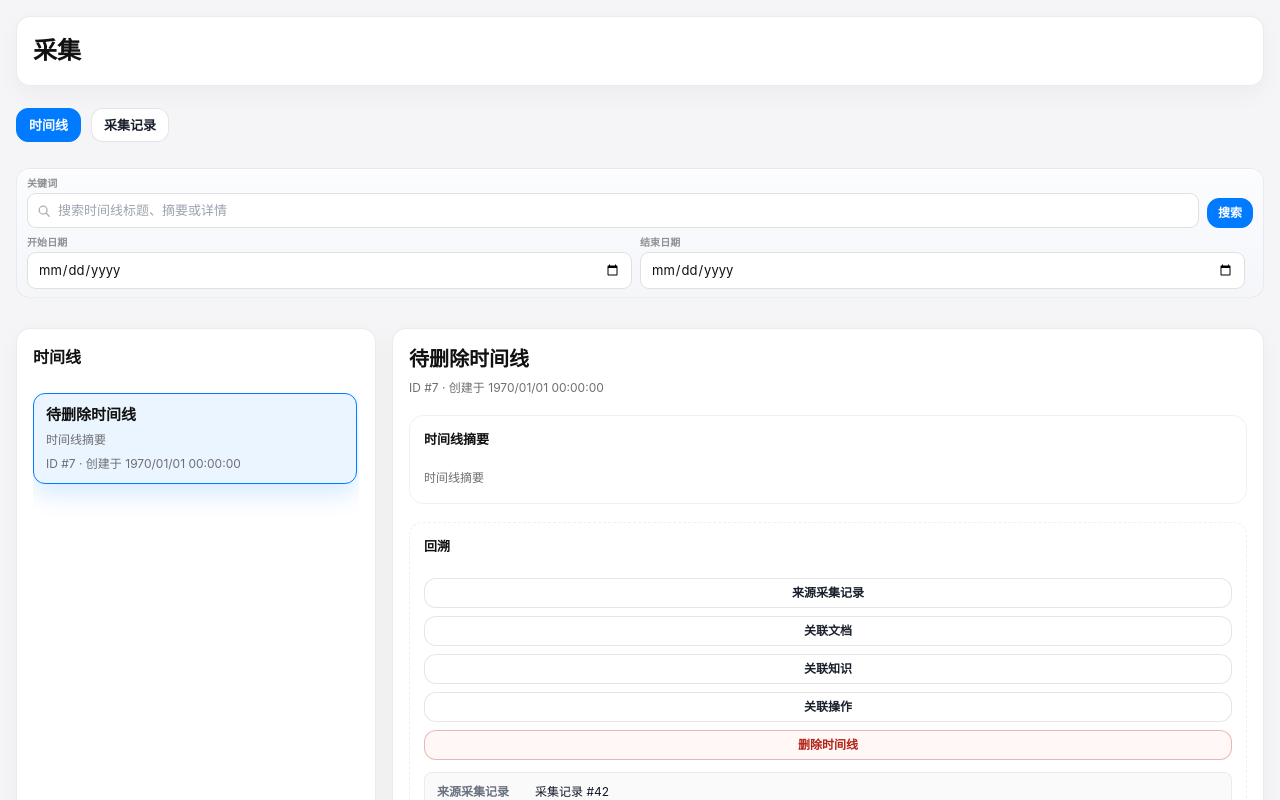
采集与时间线删除 › 确认后删除时间线并刷新当前列表
This screenshot has width=1280, height=800.
Expected: the 2nd text "待删除时间线" is shown, [46,405,136,424]
Click the button "删除时间线" at (828, 745), box [424,730,1232,760]
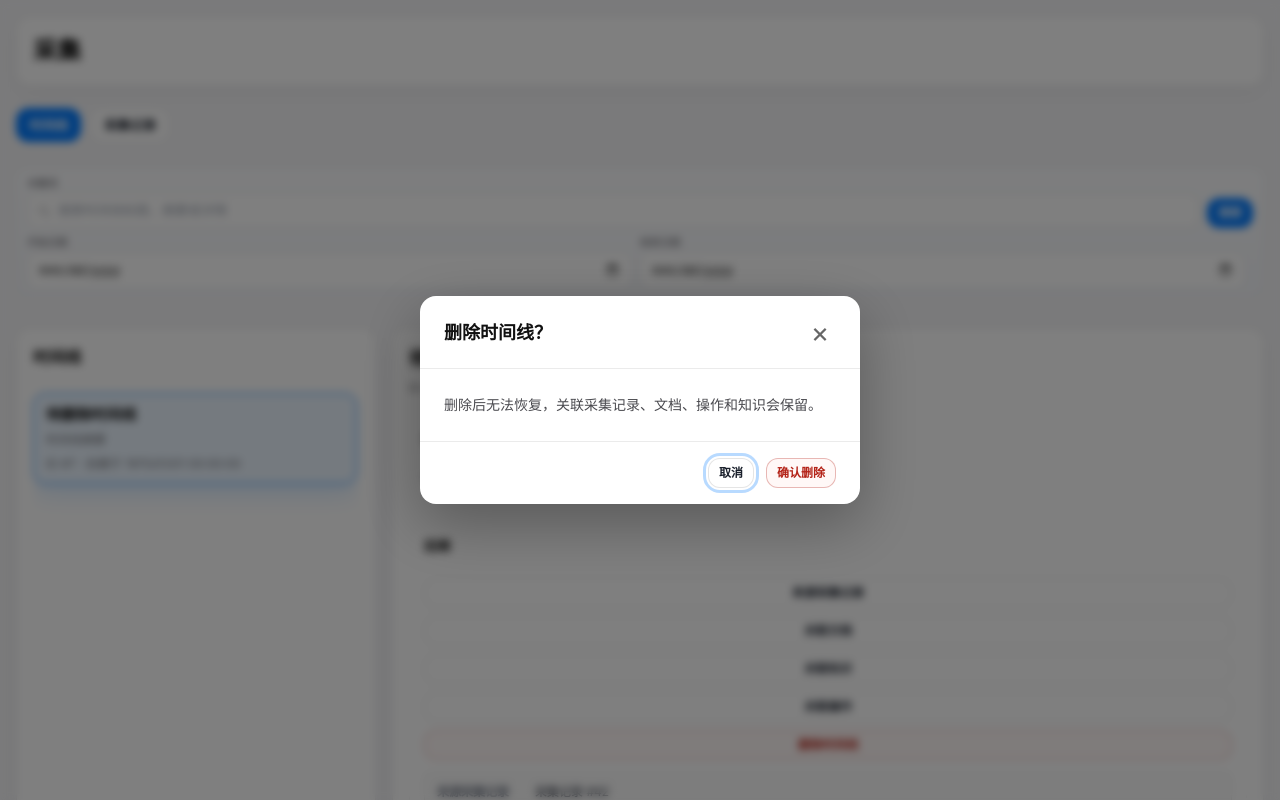
Expected: the dialog "删除时间线？" is shown, [420,296,860,504]
Click the button "确认删除" at (801, 473), box [766,458,836,488]
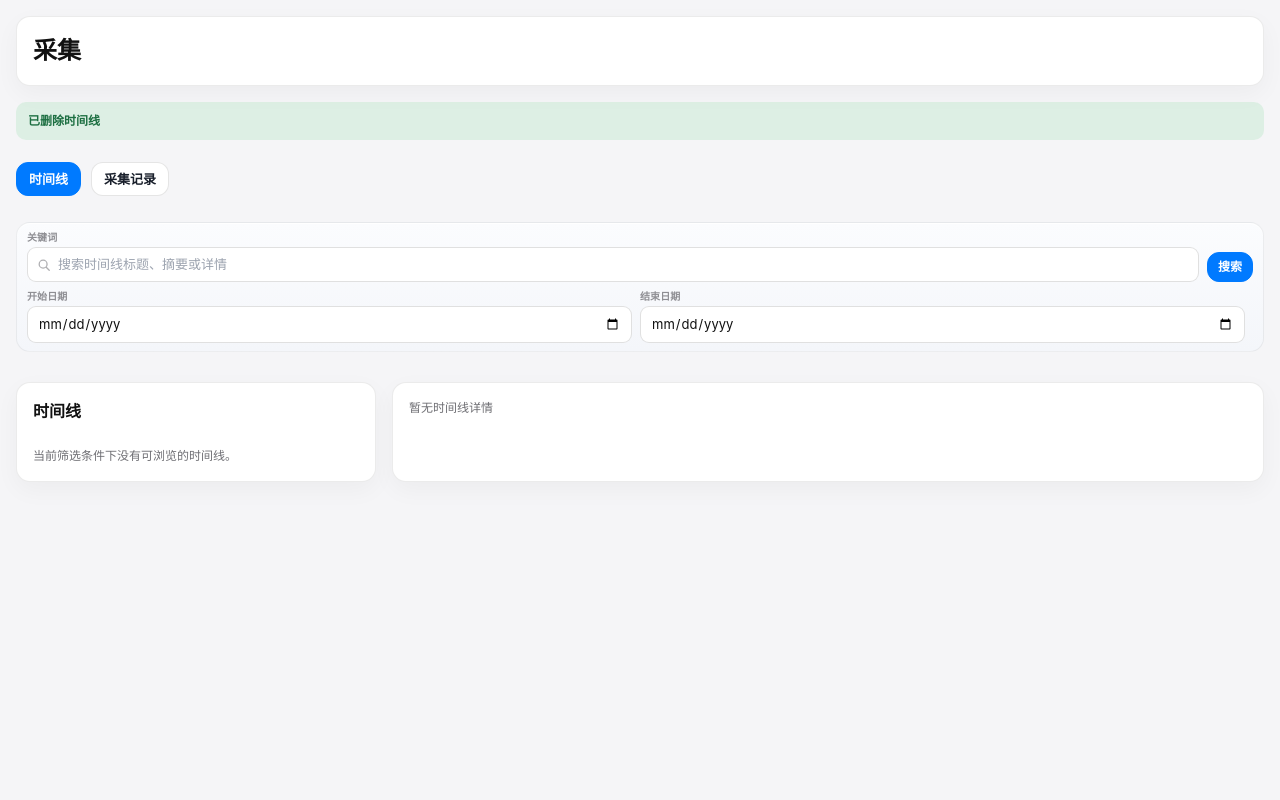
Expected: the text "已删除时间线" is shown, [16,102,1264,140]
Expected: the text "当前筛选条件下没有可浏览的时间线。" is shown, [33,448,237,463]
